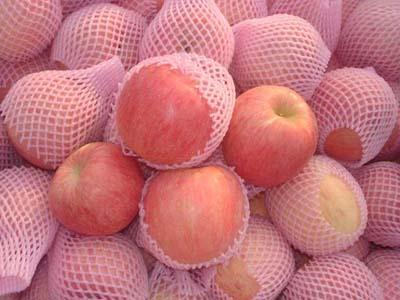apple: (137, 161, 248, 268), (116, 61, 214, 166), (221, 84, 318, 188), (48, 139, 142, 236)
